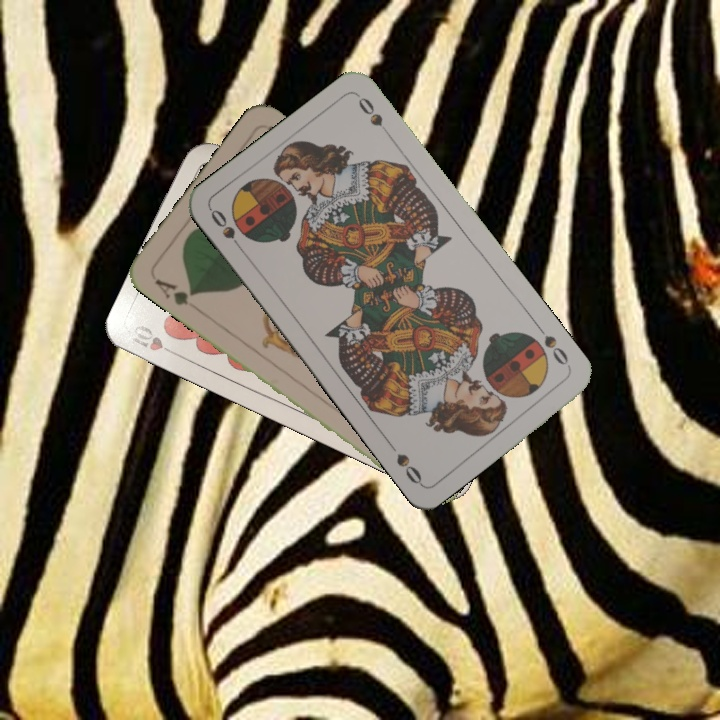GA: (150, 274, 201, 313)
H10: (126, 320, 182, 360)
SO: (206, 205, 248, 256), (533, 321, 574, 372)
